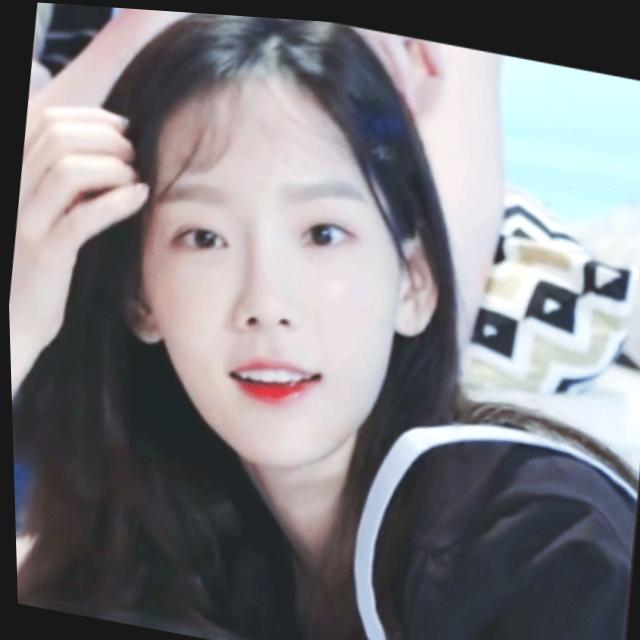face: (106, 74, 436, 488)
